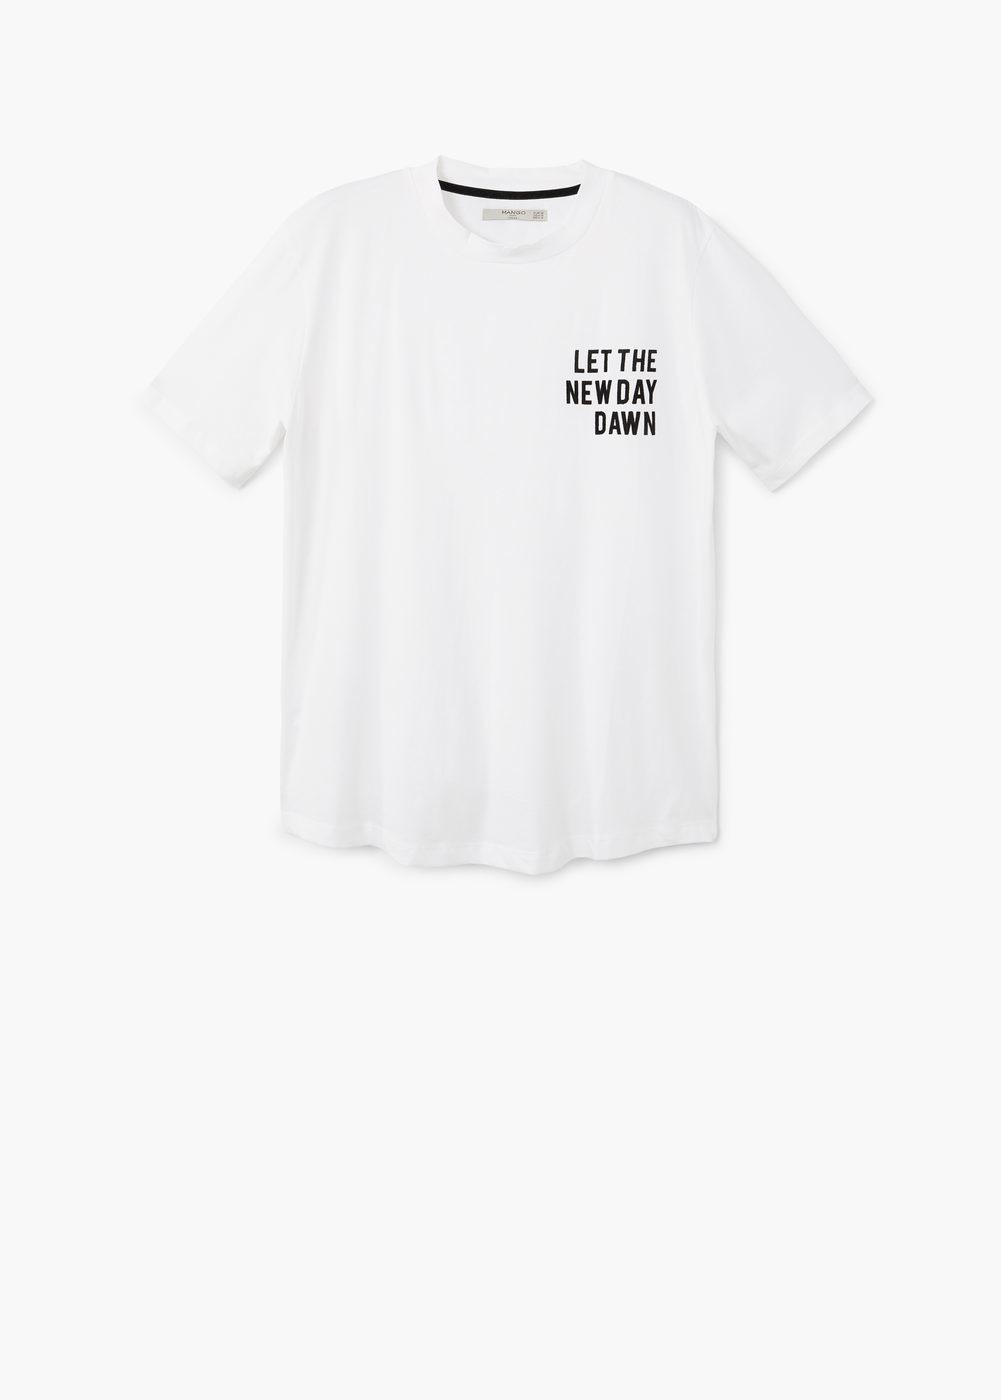teeshirt: (112, 131, 910, 942)
